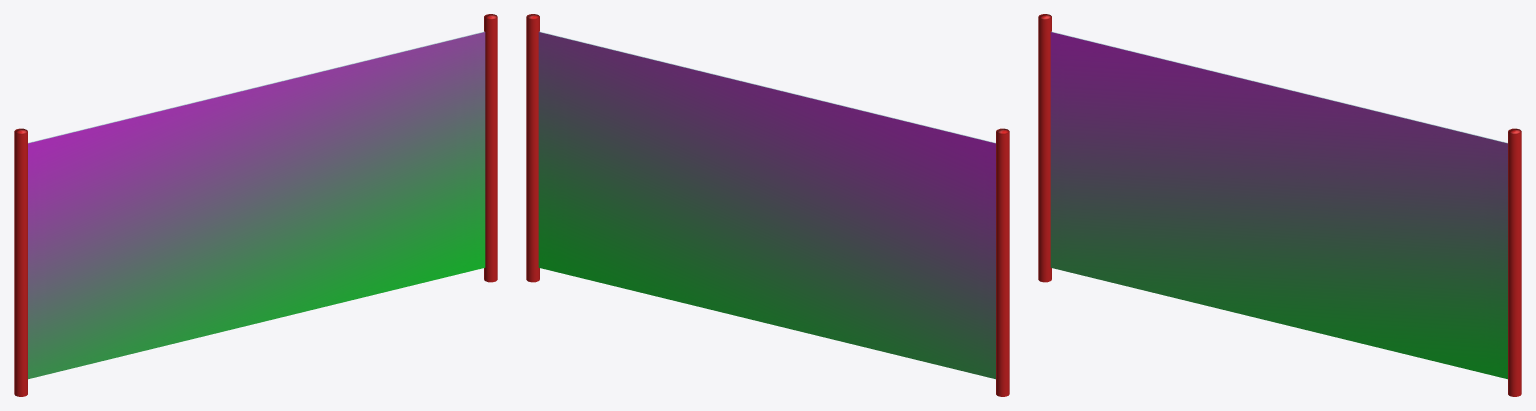
File: kabe.fbx
The picture shows the model from 3 angles, left to right: view 1: azimuth 30°, elevation 25°; view 2: azimuth 150°, elevation 25°; view 3: azimuth 330°, elevation 25°; orthographic projection.
Parts seen in each view (by area): view 1: pCube1, pCylinder2, pCylinder1; view 2: pCube1, pCylinder2, pCylinder1; view 3: pCube1, pCylinder1, pCylinder2.
Part boxes in pixels (<box>): pCube1: <box>28,31,485,379</box>; pCylinder2: <box>14,128,27,396</box>; pCylinder1: <box>484,14,497,282</box>; pCube1: <box>538,31,995,379</box>; pCylinder2: <box>996,128,1009,396</box>; pCylinder1: <box>526,14,539,282</box>; pCube1: <box>1050,31,1507,379</box>; pCylinder1: <box>1508,128,1521,396</box>; pCylinder2: <box>1038,14,1051,282</box>.
Bounding box in the file's own units: 62.16 × 32.37 × 1.49.
